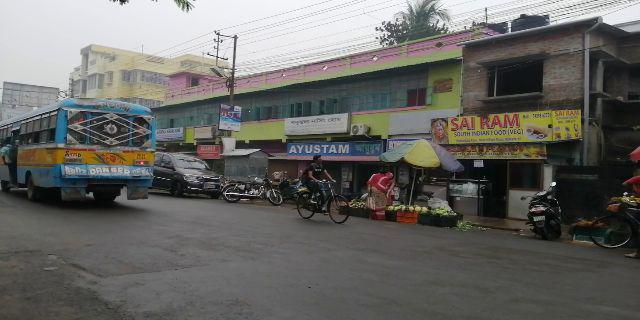Bus: (1, 100, 158, 198)
Car: (153, 151, 220, 203)
Cycle: (296, 152, 350, 227)
Motorbike: (222, 172, 286, 209), (521, 185, 561, 238)
